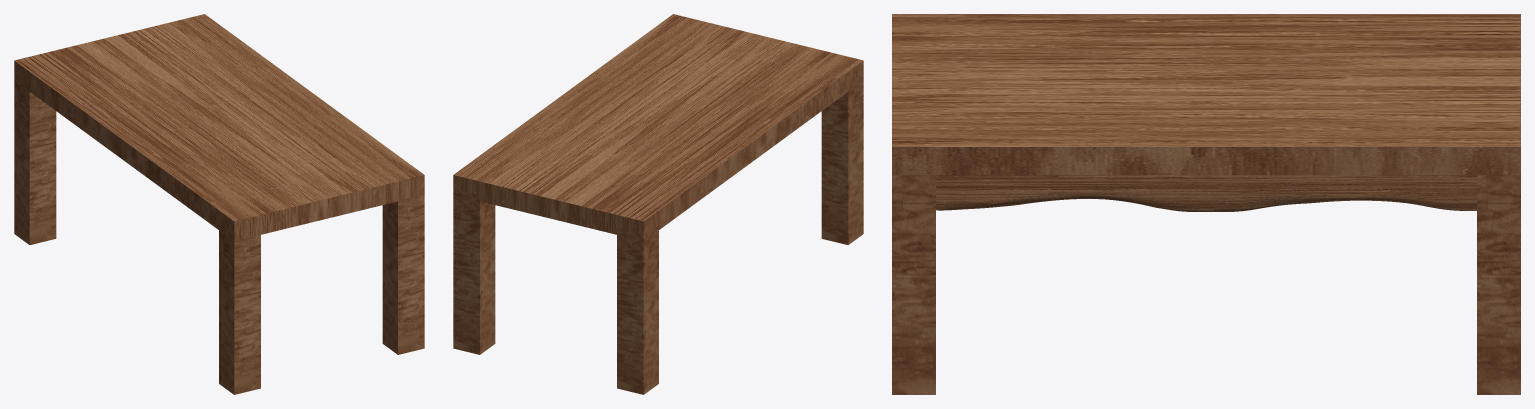
Rendered from table_1.fbx.
3 views of the same model, side by side, from view 1: azimuth 30°, elevation 25°; view 2: azimuth 150°, elevation 25°; view 3: azimuth 270°, elevation 25° (orthographic). The views are drawn at different scales.
Parts seen in each view (by area): view 1: TableTop, TableLeg.003, TableLeg, TableLeg.002; view 2: TableTop, TableLeg.002, TableLeg.001, TableLeg.003; view 3: TableTop, TableFront, TableLeg.001, TableLeg.
Part boxes in pixels (x1,y1,x2,y2): TableTop: (14,14,424,241); TableLeg.003: (219,225,260,394); TableLeg: (382,195,424,354); TableLeg.002: (14,75,56,244); TableTop: (453,14,863,240); TableLeg.002: (617,225,658,394); TableLeg.001: (453,189,495,354); TableLeg.003: (821,75,863,244); TableTop: (892,14,1520,175); TableFront: (936,175,1476,211); TableLeg.001: (1477,167,1520,394); TableLeg: (892,169,935,394).
Size of the model in its own units: 100 by 87.06 by 200.
1 material, 1 textured.
